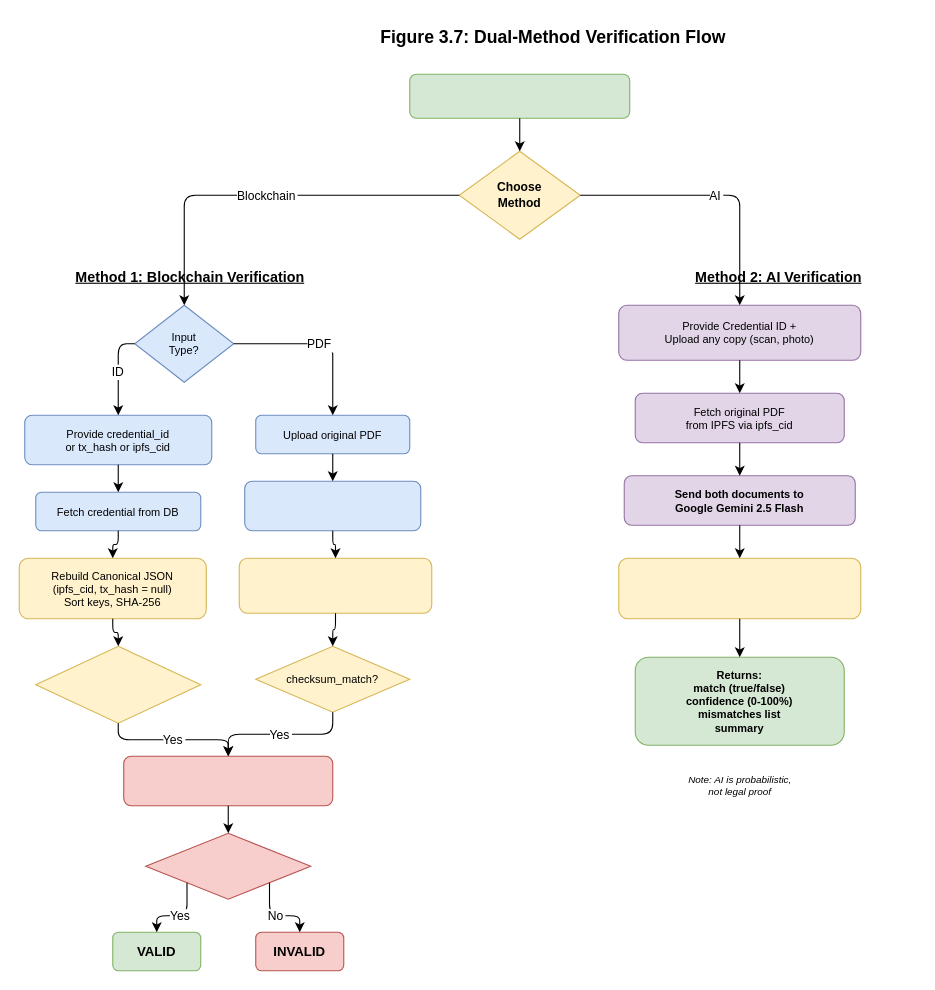
This 935x990 diagram has some shape labels left out. Each missing label, with the box of its shape:
blockchain_verified?: (145, 832, 311, 899)
Compare with stored data_hash = hash_match?: (35, 645, 201, 723)
Extract credential_id from PDF Keywords: (244, 480, 421, 531)
Field-by-field comparison: name, institution, course, marks, dates, roll no.: (618, 557, 861, 619)
Query Smart Contract on Sepolia via tx_hash: (123, 755, 333, 806)
SHA-256 of PDF buffer Compare with stored checksum: (238, 557, 432, 613)
Verifier accesses /verify: (409, 73, 630, 118)
